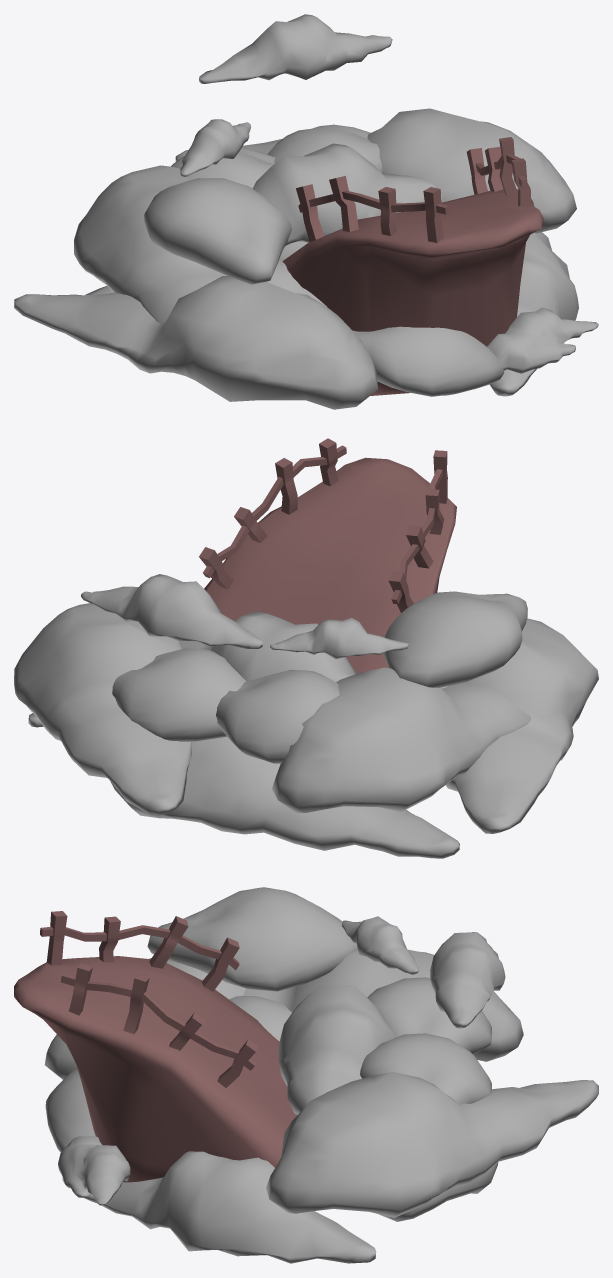
Rendered from hILL LOW.fbx.
3 renders of one model, top to bottom at view 1: azimuth 30°, elevation 25°; view 2: azimuth 150°, elevation 25°; view 3: azimuth 270°, elevation 25°, orthographic.
Parts seen in each view (by area): view 1: polySurface36, polySurface16, polySurface33, polySurface32, polySurface30, polySurface40, polySurface37, polySurface20, polySurface34, polySurface38, polySurface39, polySurface31 (+3 smaller); view 2: polySurface16, polySurface33, polySurface30, polySurface36, polySurface13, polySurface32, polySurface31, polySurface35, polySurface20, polySurface34, polySurface37, polySurface14; view 3: polySurface16, polySurface30, polySurface38, polySurface32, polySurface37, polySurface20, polySurface31, polySurface33, polySurface34, polySurface35, polySurface39, polySurface40 (+4 smaller).
Boxes of the visible parts, left/top/right/bottom form: polySurface36: left=14, top=276, right=378, bottom=409; polySurface16: left=282, top=189, right=543, bottom=395; polySurface33: left=74, top=165, right=226, bottom=323; polySurface32: left=144, top=178, right=291, bottom=284; polySurface30: left=175, top=108, right=576, bottom=233; polySurface40: left=352, top=326, right=504, bottom=396; polySurface37: left=252, top=143, right=442, bottom=245; polySurface20: left=296, top=137, right=530, bottom=243; polySurface34: left=199, top=14, right=392, bottom=83; polySurface38: left=489, top=232, right=578, bottom=396; polySurface39: left=487, top=307, right=598, bottom=373; polySurface31: left=267, top=124, right=382, bottom=173; polySurface16: left=204, top=457, right=456, bottom=673; polySurface33: left=272, top=667, right=530, bottom=812; polySurface30: left=14, top=603, right=191, bottom=815; polySurface36: left=445, top=618, right=598, bottom=833; polySurface13: left=110, top=736, right=459, bottom=858; polySurface32: left=383, top=591, right=527, bottom=687; polySurface31: left=112, top=648, right=246, bottom=741; polySurface35: left=216, top=670, right=339, bottom=763; polySurface20: left=199, top=438, right=447, bottom=612; polySurface34: left=81, top=574, right=263, bottom=648; polySurface37: left=179, top=611, right=356, bottom=681; polySurface14: left=270, top=618, right=408, bottom=659; polySurface16: left=14, top=956, right=297, bottom=1182; polySurface30: left=266, top=1072, right=598, bottom=1217; polySurface38: left=83, top=1151, right=376, bottom=1263; polySurface32: left=147, top=887, right=357, bottom=991; polySurface37: left=278, top=985, right=396, bottom=1114; polySurface20: left=40, top=911, right=258, bottom=1087; polySurface31: left=360, top=1033, right=491, bottom=1104; polySurface33: left=242, top=949, right=523, bottom=1061; polySurface34: left=430, top=932, right=505, bottom=1028; polySurface35: left=367, top=977, right=491, bottom=1054; polySurface39: left=58, top=1135, right=130, bottom=1205; polySurface40: left=45, top=1067, right=95, bottom=1152.
Size of the model in its own units: 75.89 by 34.61 by 74.76.
